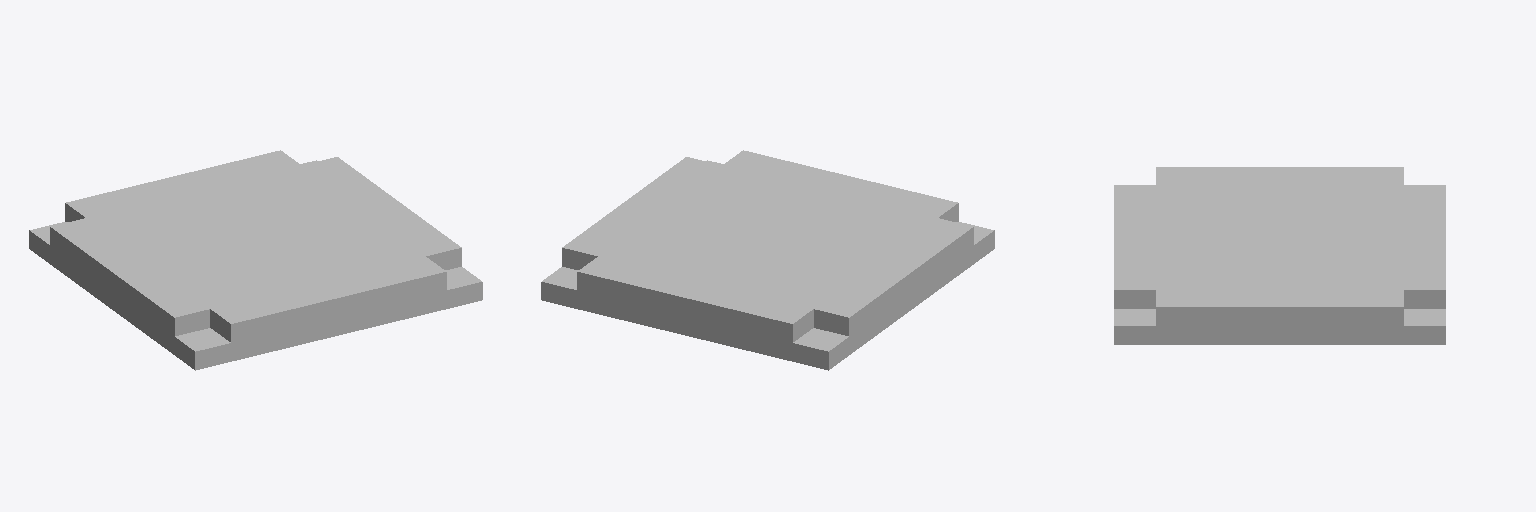
Rendered from moneda.obj.
3 views of the same model, side by side, from view 1: azimuth 30°, elevation 25°; view 2: azimuth 150°, elevation 25°; view 3: azimuth 270°, elevation 25° (orthographic).
Bounding box in the file's own units: 16 × 2 × 16.